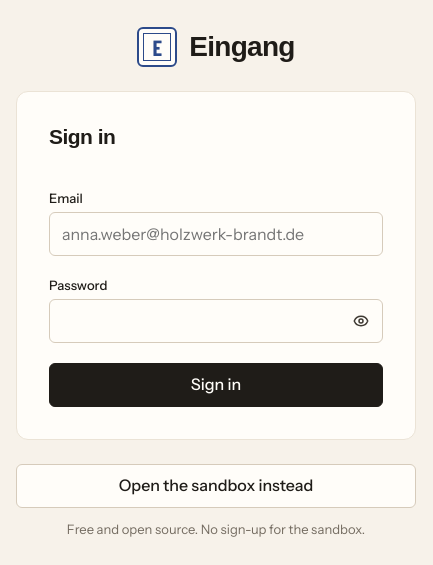
Test: SignInView › puts validation problems next to their fields
This screenshot has width=433, height=565.
In the field with id "sign-in-email": (216, 234) [49,212,383,256], type "anna"
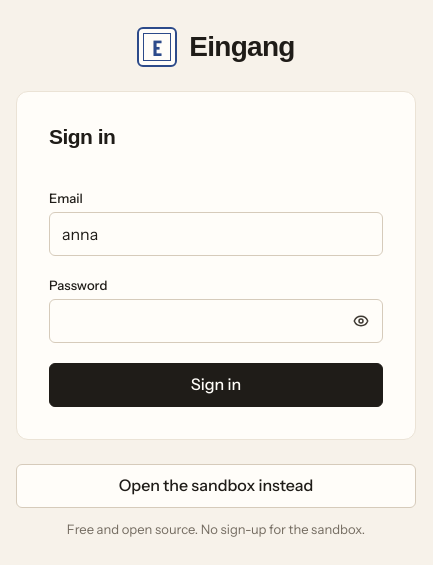
In the password field with id "sign-in-password": (216, 321) [49,299,383,343], type "secret"
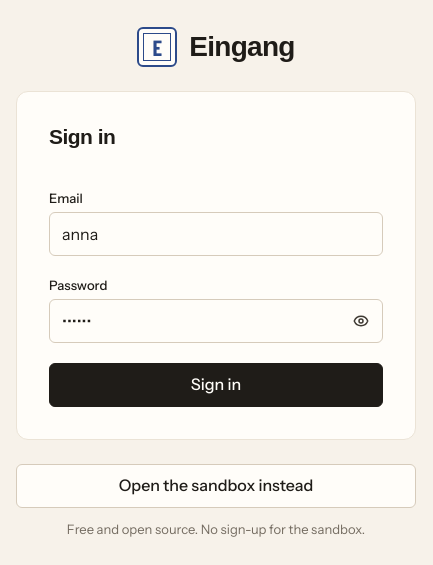
Submit the form, box [16,91,416,440]
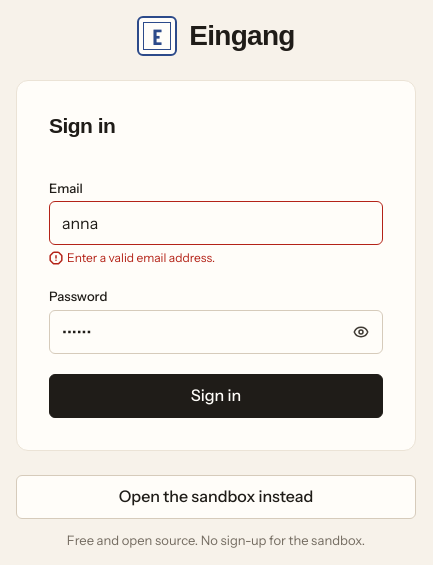
expect the message with id "sign-in-email-error" reads "Enter a valid email address.": met, box [67,250,215,266]
